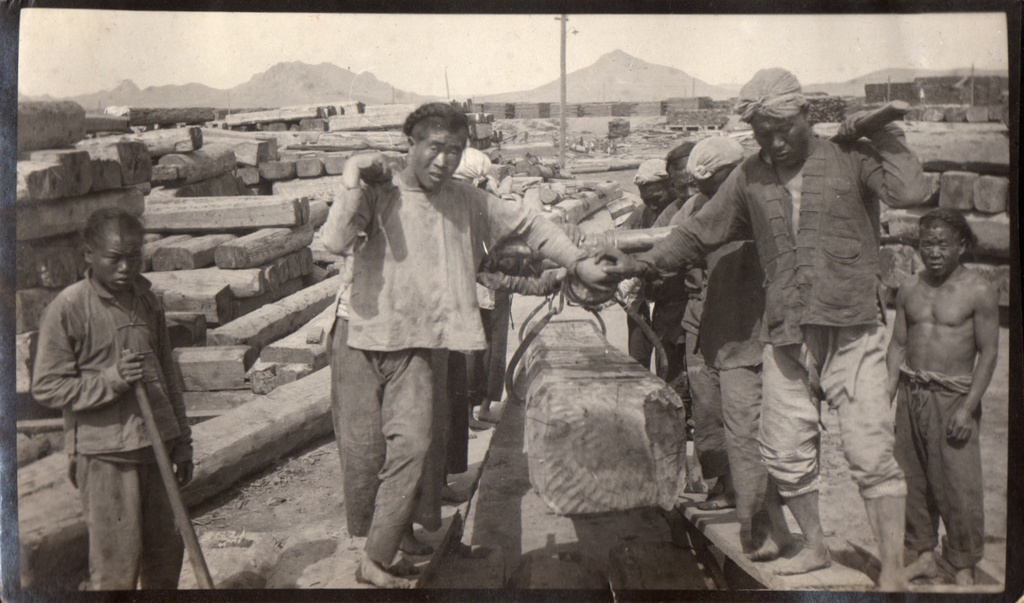Person: (321, 64, 999, 595), (32, 206, 194, 594)
